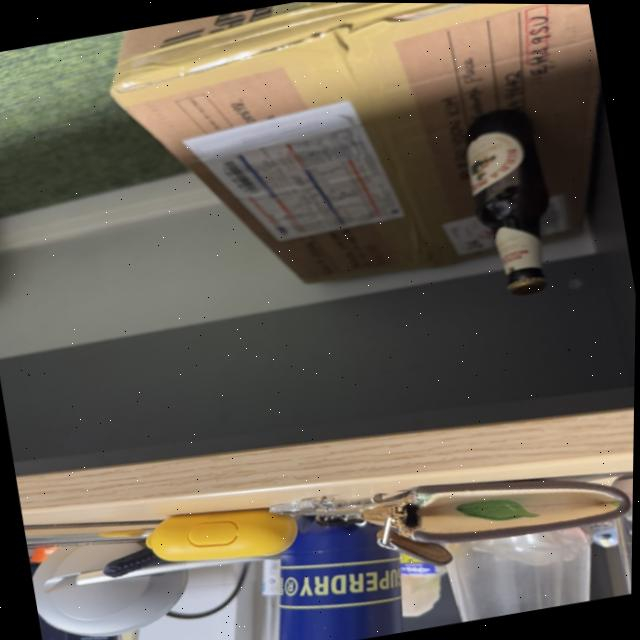beer: (448, 100, 569, 304)
